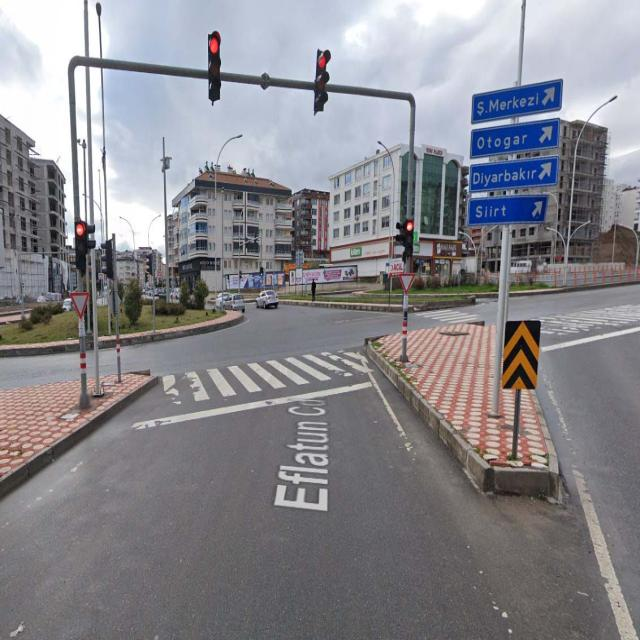kirmizi: (207, 34, 220, 98), (317, 50, 327, 110), (75, 219, 84, 262), (405, 222, 414, 254)
